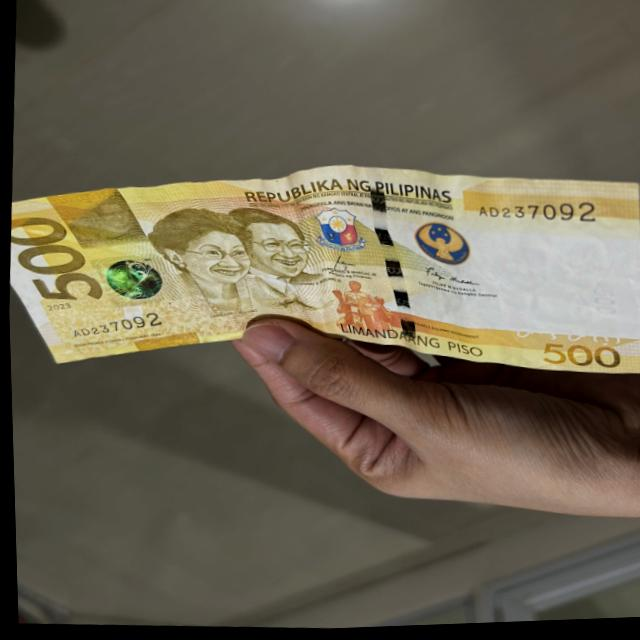concealed_value: (56, 191, 136, 252)
optically_variable_device: (92, 257, 166, 306)
security_thread: (357, 187, 422, 346)
see_through_mark: (507, 325, 617, 360)
serial_number: (473, 200, 615, 241), (68, 308, 163, 347)
value: (5, 214, 104, 312)
value_watermark: (589, 283, 615, 321)
watermark: (485, 231, 640, 336)
